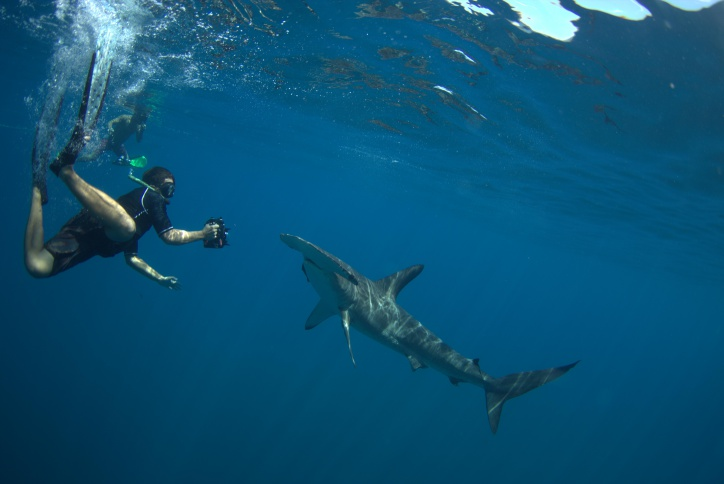Hammer: (269, 209, 606, 450)
